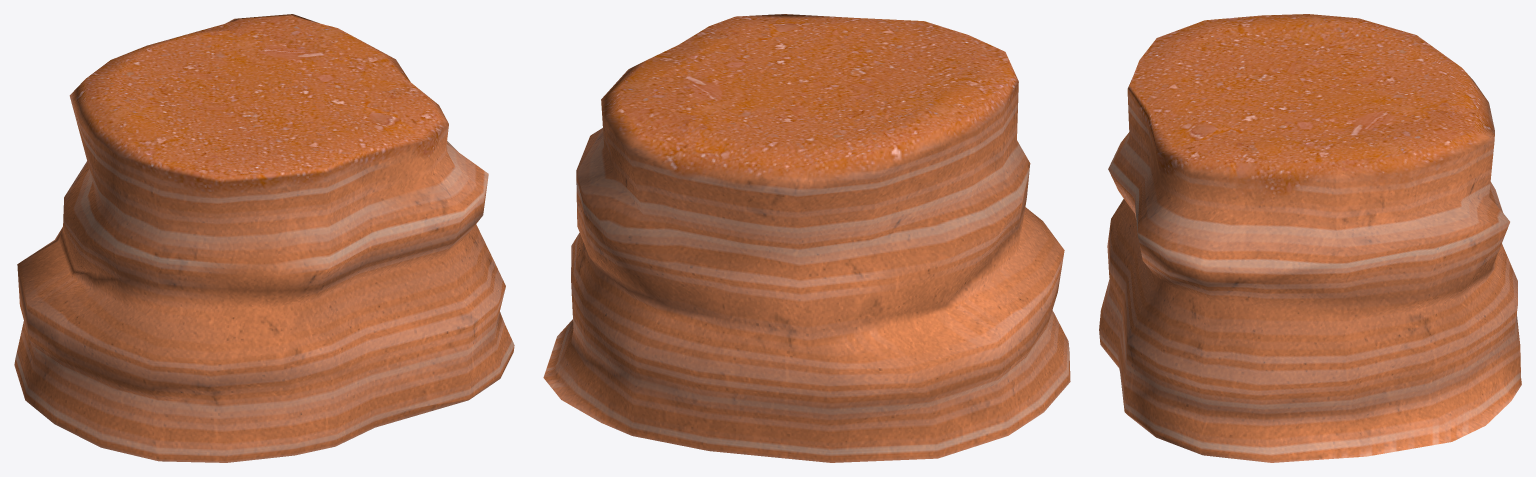
The model's file is SM_EnvPiece_02.fbx.
3 views of the same model, side by side, from view 1: azimuth 30°, elevation 25°; view 2: azimuth 150°, elevation 25°; view 3: azimuth 270°, elevation 25° (orthographic). The views are drawn at different scales.
Visible parts, largest first — view 1: SM_EnvPiece_02; view 2: SM_EnvPiece_02; view 3: SM_EnvPiece_02.
Boxes of the visible parts, x1,y1,x2,y2 form: SM_EnvPiece_02: [14, 14, 514, 462]; SM_EnvPiece_02: [543, 14, 1070, 462]; SM_EnvPiece_02: [1099, 14, 1521, 462].
Bounding box in the file's own units: 1609 × 994 × 1382.
